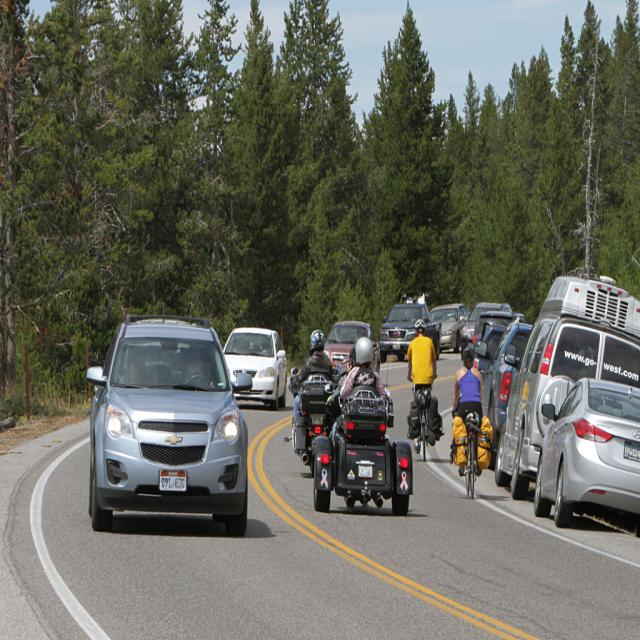car: (86, 311, 252, 530)
